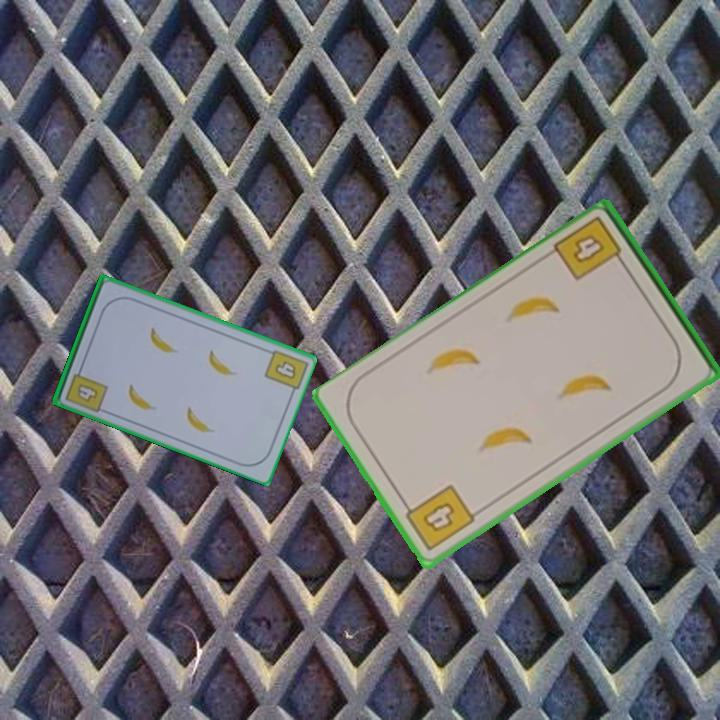4b: (399, 481, 478, 555), (550, 213, 630, 284), (62, 362, 110, 415), (271, 357, 299, 382)
